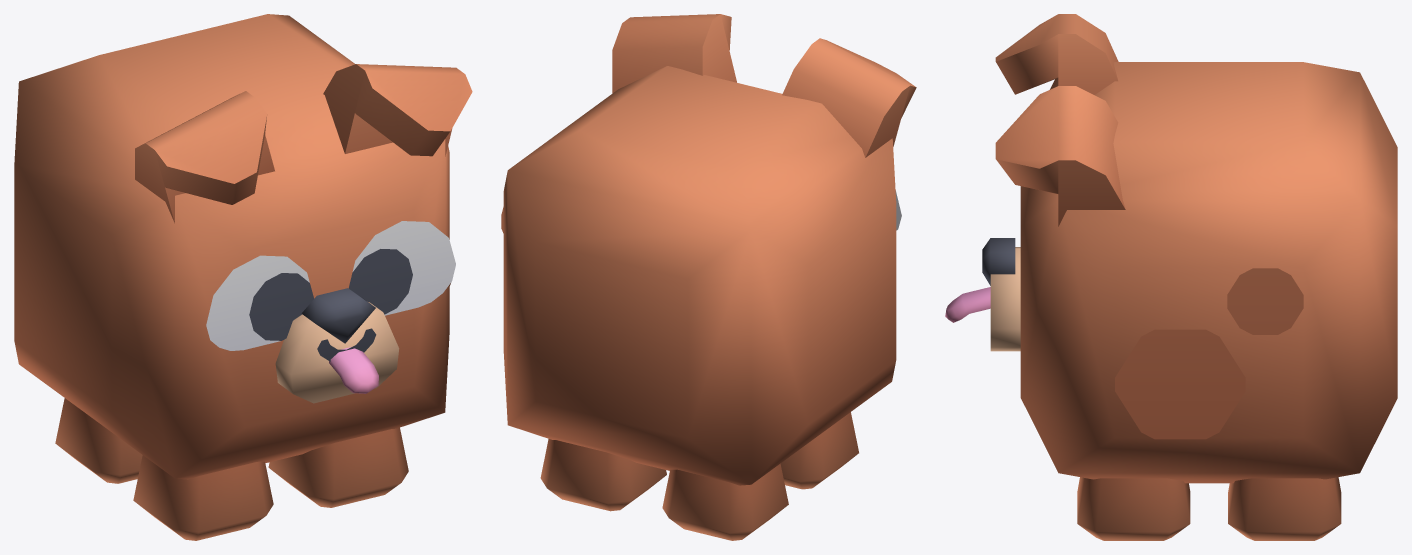
3 views of the same model, side by side, from view 1: azimuth 30°, elevation 25°; view 2: azimuth 150°, elevation 25°; view 3: azimuth 270°, elevation 25° (orthographic). The views are drawn at different scales.
Visible parts, largest first — view 1: body, leg-front-right, leg-front-left, leg-back-right; view 2: body, leg-back-right, leg-back-left, leg-front-right; view 3: body, leg-back-left, leg-front-left.
Part boxes in pixels (x1,y1,x2,y2): body: (14,14,472,479); leg-front-right: (133,455,273,540); leg-front-left: (268,427,408,507); leg-back-right: (55,398,142,483); body: (501,14,916,485); leg-back-right: (662,463,788,540); leg-back-left: (540,439,666,511); leg-front-right: (780,412,858,489); body: (945,14,1397,483); leg-back-left: (1228,477,1341,540); leg-front-left: (1077,477,1190,540).
Bounding box in the file's own units: 1.26 × 1.58 × 1.5.
Materials: 1 (1 with a texture image).
